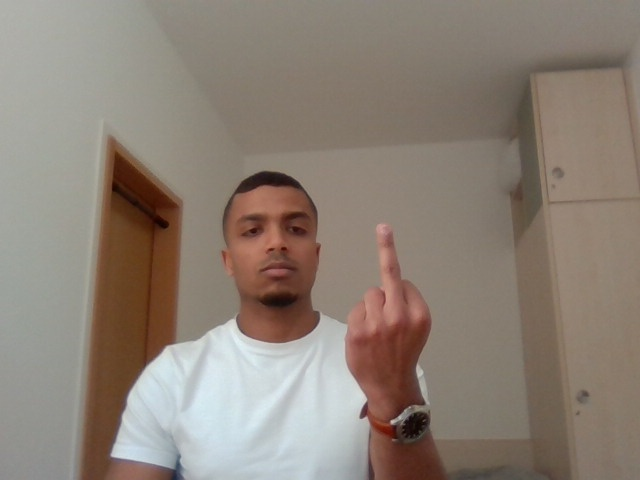fuckyou: (331, 217, 476, 405)
